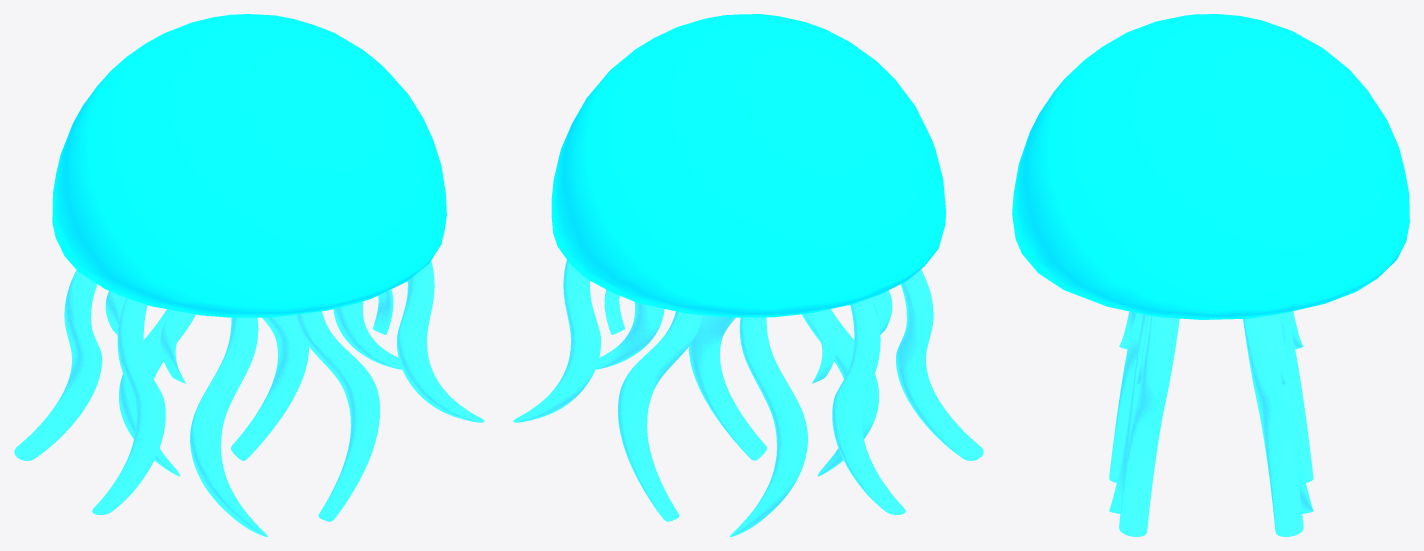
File: jellyfish.gltf
3 views of the same model, side by side, from view 1: azimuth 30°, elevation 25°; view 2: azimuth 150°, elevation 25°; view 3: azimuth 270°, elevation 25° (orthographic).
Bounding box in the file's own units: 4.12 × 4.71 × 3.63.
